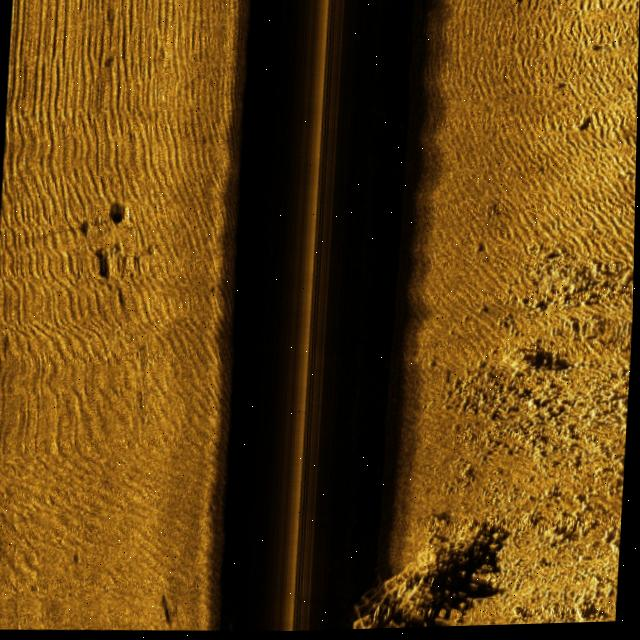artificial reef: (350, 538, 453, 632)
